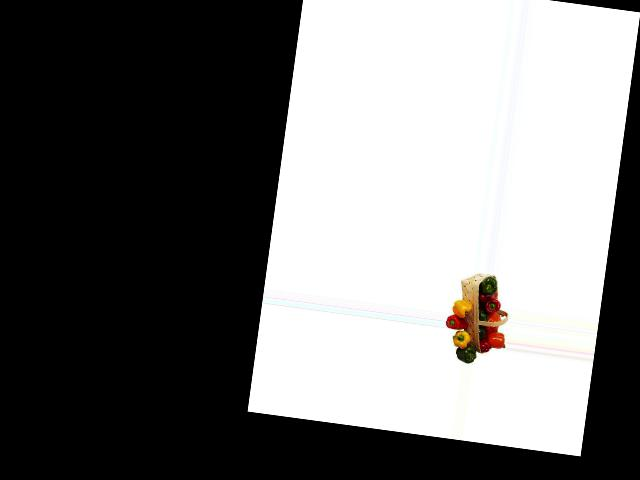bell_pepper: (479, 275, 499, 297)
